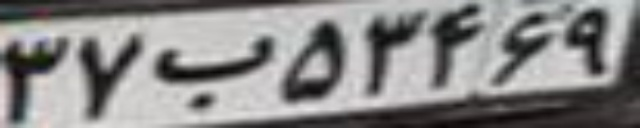3: (0, 32, 67, 122), (366, 10, 427, 95)
4: (432, 4, 484, 89)
5: (283, 20, 345, 102)
6: (493, 11, 554, 86)
7: (79, 31, 140, 119)
9: (564, 8, 609, 74)
be: (155, 33, 275, 109)
